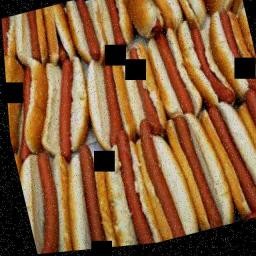hotdog: (158, 110, 235, 234), (128, 123, 193, 247), (198, 98, 256, 226), (101, 137, 155, 249), (16, 149, 70, 255), (63, 146, 115, 252), (39, 53, 93, 155), (177, 21, 233, 114), (205, 12, 256, 105), (148, 36, 199, 121), (117, 46, 165, 134), (88, 56, 129, 146), (4, 63, 39, 150), (63, 0, 108, 66), (94, 0, 135, 50), (14, 9, 50, 58)
